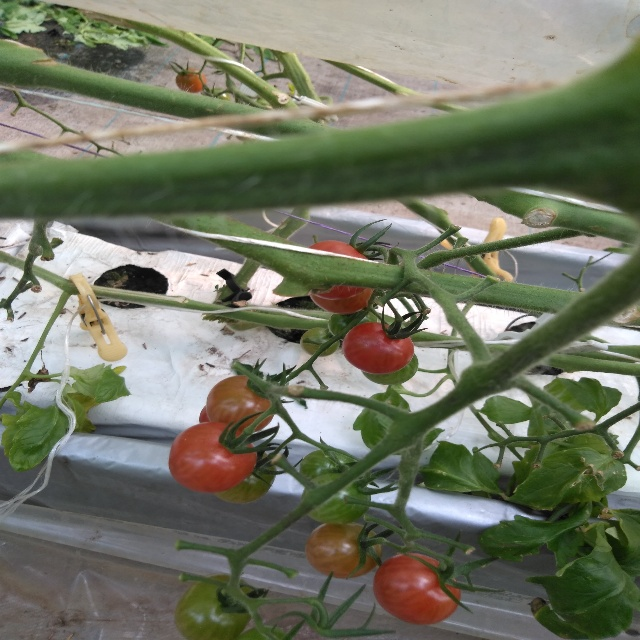l_fully_ripened: (372, 552, 461, 626), (168, 421, 257, 494), (296, 241, 375, 301), (342, 322, 414, 375)
l_green: (174, 574, 256, 640), (212, 448, 278, 505), (302, 472, 371, 525), (299, 449, 361, 486), (362, 354, 419, 386), (327, 308, 377, 341), (301, 328, 341, 356)
l_half_ripened: (305, 524, 382, 579), (207, 375, 278, 434), (309, 288, 377, 315)
